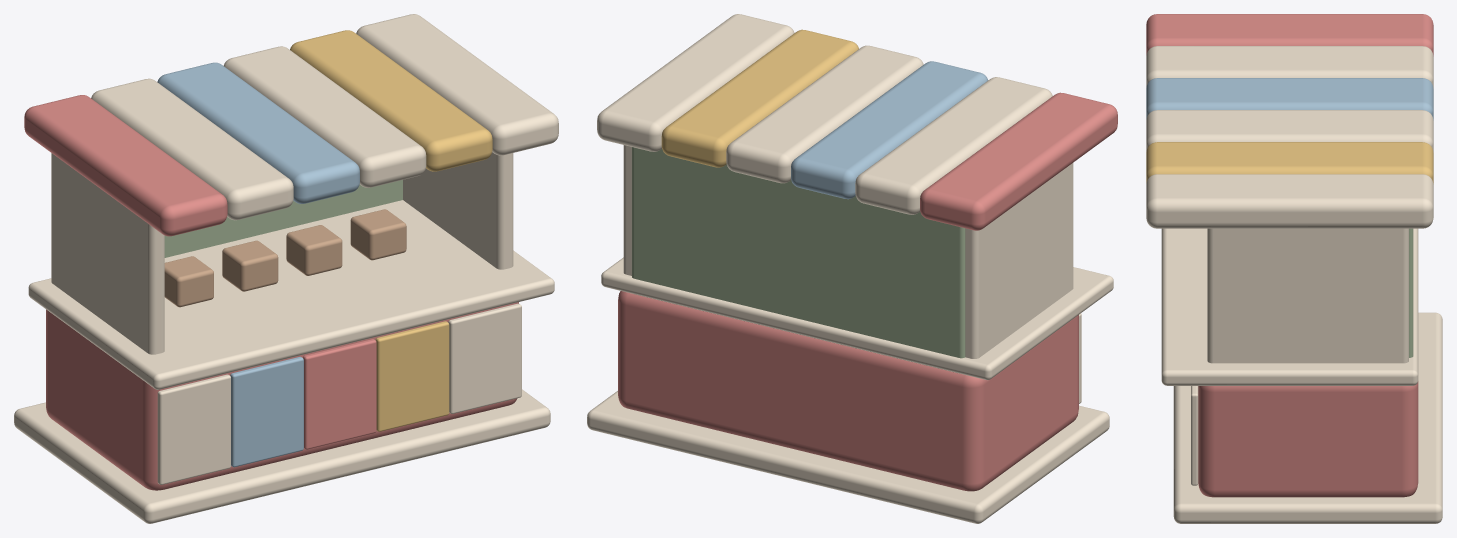
The model's file is kiosk.glb.
The picture shows the model from 3 angles, left to right: view 1: azimuth 30°, elevation 25°; view 2: azimuth 150°, elevation 25°; view 3: azimuth 270°, elevation 25°; orthographic projection. The views are drawn at different scales.
Parts seen in each view (by area): view 1: striped awning (×6), serving counter, counter stripe (×5), side pillar (×2), plinth, counter, display box (×4), back wall; view 2: striped awning (×6), counter, back wall, plinth, side pillar (×2), serving counter; view 3: striped awning (×6), side pillar, counter, plinth, serving counter, counter stripe, back wall.
Part boxes in pixels (box(x1,y1,x2,y2)): striped awning (×6): box(24, 14, 558, 236); serving counter: box(28, 200, 554, 389); counter stripe (×5): box(157, 303, 521, 484); side pillar (×2): box(51, 152, 513, 354); plinth: box(14, 389, 550, 523); counter: box(46, 302, 518, 490); display box (×4): box(164, 209, 406, 307); back wall: box(164, 180, 402, 257); striped awning (×6): box(597, 14, 1117, 230); counter: box(618, 291, 1078, 491); back wall: box(632, 147, 965, 372); plinth: box(587, 391, 1109, 523); side pillar (×2): box(623, 145, 1073, 358); serving counter: box(601, 257, 1113, 380); striped awning (×6): box(1146, 14, 1433, 228); side pillar: box(1207, 228, 1408, 363); counter: box(1198, 381, 1418, 497); plinth: box(1173, 312, 1442, 523); serving counter: box(1161, 228, 1418, 385); counter stripe: box(1191, 386, 1198, 485); back wall: box(1409, 228, 1413, 357).
Bounding box in the file's own units: 3.8 × 2.91 × 2.42.
